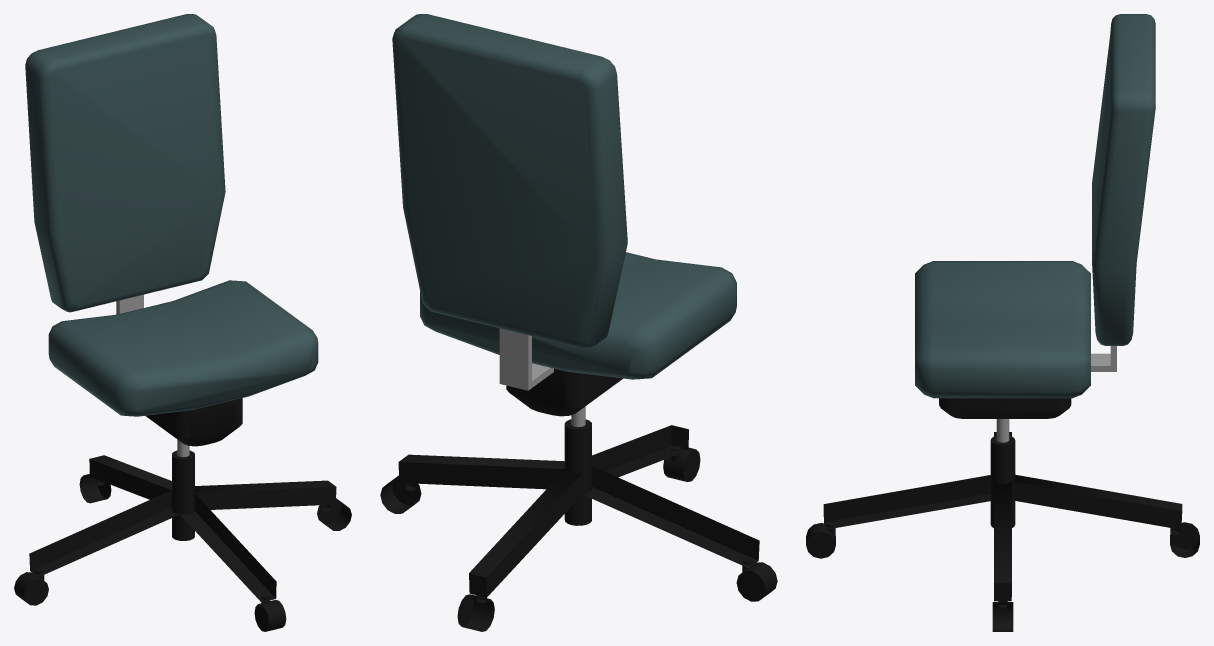
Rendered from kontorstolUpdated.fbx.
3 views of the same model, side by side, from view 1: azimuth 30°, elevation 25°; view 2: azimuth 150°, elevation 25°; view 3: azimuth 270°, elevation 25° (orthographic). The views are drawn at different scales.
Visible parts, largest first — view 1: Cube.002, Cube, Cylinder.001, Cube.001; view 2: Cube.002, Cylinder.001, Cube, Cube.001, Cube.003; view 3: Cube, Cube.002, Cylinder.001, Cube.001.
Boxes of the visible parts, x1,y1,x2,y2 form: Cube.002: (25, 14, 225, 312); Cube: (48, 280, 318, 416); Cylinder.001: (14, 450, 351, 631); Cube.001: (145, 398, 242, 446); Cube.002: (392, 14, 627, 348); Cylinder.001: (380, 419, 777, 631); Cube: (420, 252, 736, 379); Cube.001: (506, 368, 622, 416); Cube.003: (499, 328, 553, 390); Cube: (915, 261, 1090, 398); Cube.002: (1092, 14, 1155, 345); Cylinder.001: (806, 432, 1199, 631); Cube.001: (939, 398, 1071, 418).
Size of the model in its own units: 86.71 by 122 by 86.71.
